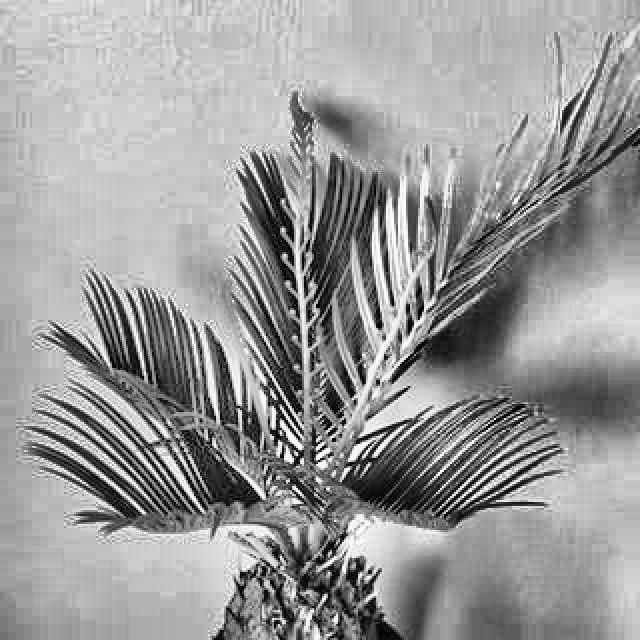plants: (53, 136, 534, 612)
